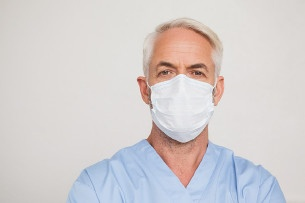Mask: (140, 55, 220, 134)
